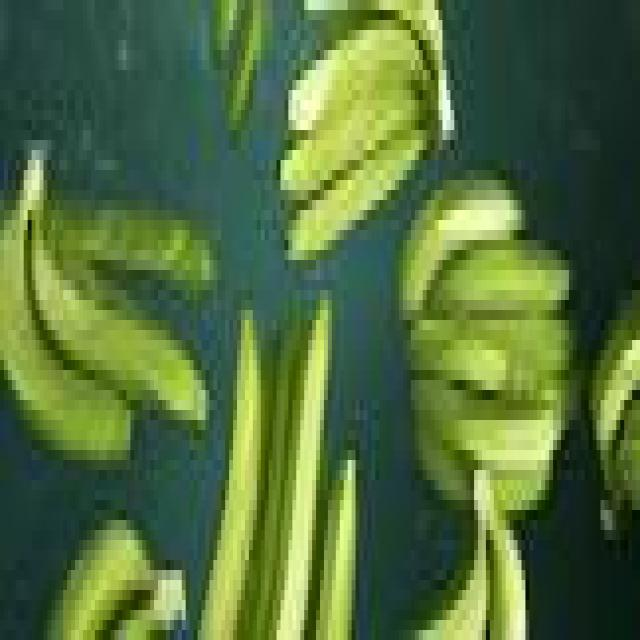banana: (0, 150, 130, 459), (28, 210, 209, 429), (261, 300, 331, 639), (198, 310, 264, 639), (241, 320, 308, 639), (289, 130, 426, 259), (400, 180, 521, 319), (281, 80, 422, 199), (289, 20, 434, 129), (44, 200, 217, 289), (415, 380, 564, 469), (48, 520, 154, 639), (415, 470, 489, 639), (407, 320, 572, 389), (427, 240, 568, 319), (593, 290, 639, 489), (317, 460, 359, 639), (486, 490, 529, 639), (107, 570, 185, 639), (415, 420, 474, 499), (415, 430, 474, 509), (230, 0, 264, 129), (490, 460, 553, 519), (609, 400, 639, 519), (115, 600, 161, 639), (214, 0, 240, 59)
